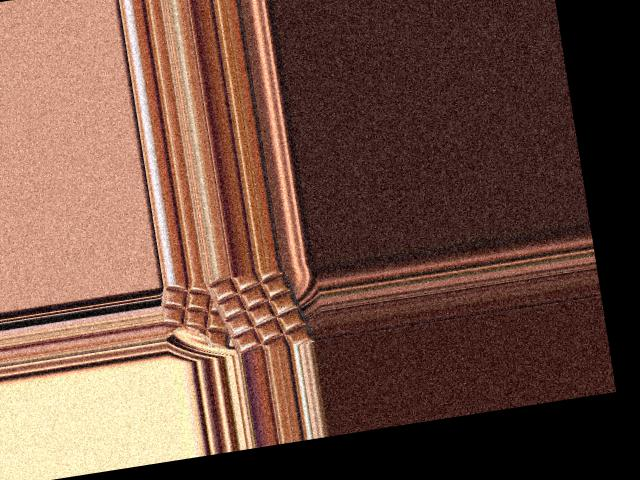chocolate: (203, 263, 317, 357)
